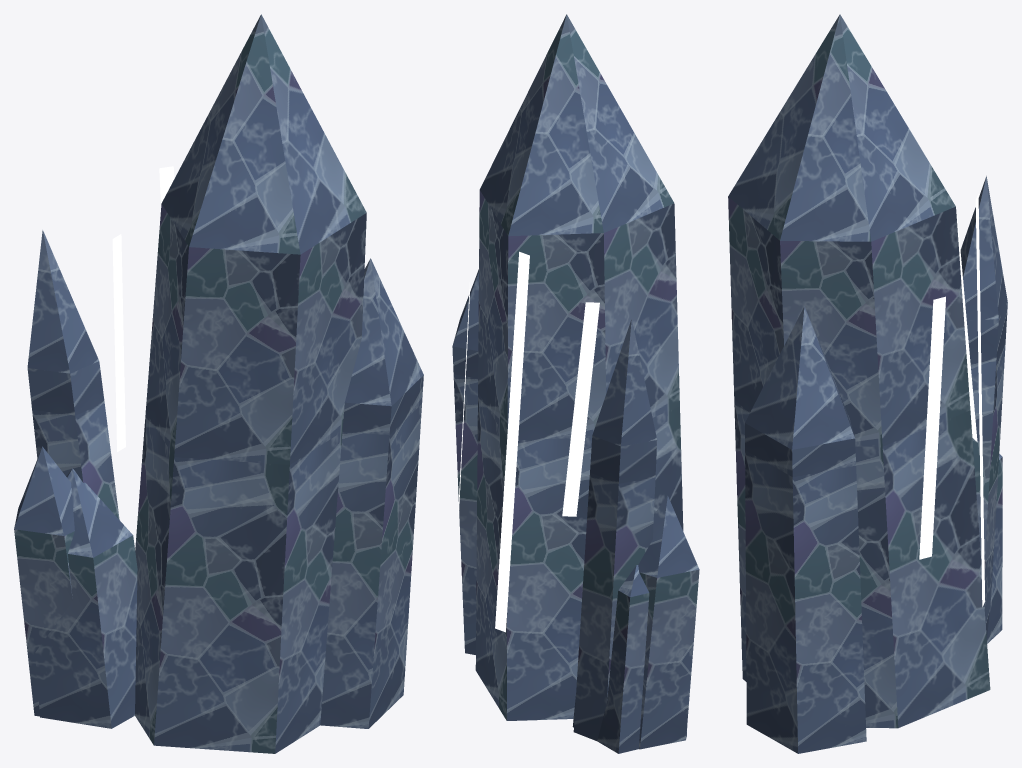
File: Oracle_Crystal_Slab_2.gltf
3 views of the same model, side by side, from view 1: azimuth 30°, elevation 25°; view 2: azimuth 150°, elevation 25°; view 3: azimuth 270°, elevation 25° (orthographic). The views are drawn at different scales.
Parts seen in each view (by area): view 1: Oracle_Crystal_Slab_2; view 2: Oracle_Crystal_Slab_2; view 3: Oracle_Crystal_Slab_2.
Part boxes in pixels (<box>): Oracle_Crystal_Slab_2: <box>14,14,423,753</box>; Oracle_Crystal_Slab_2: <box>452,14,699,753</box>; Oracle_Crystal_Slab_2: <box>728,14,1007,753</box>.
Size of the model in its own units: 18.53 by 37 by 13.76.
2 materials, 2 textured.
